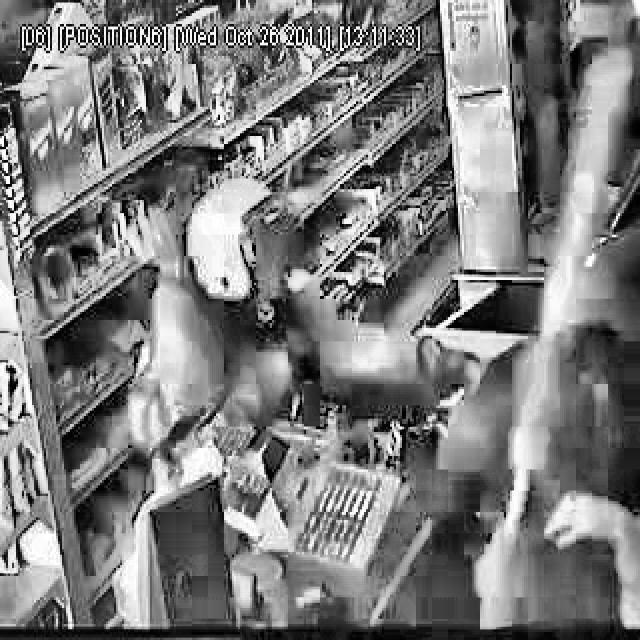robbery: (103, 175, 366, 498)
